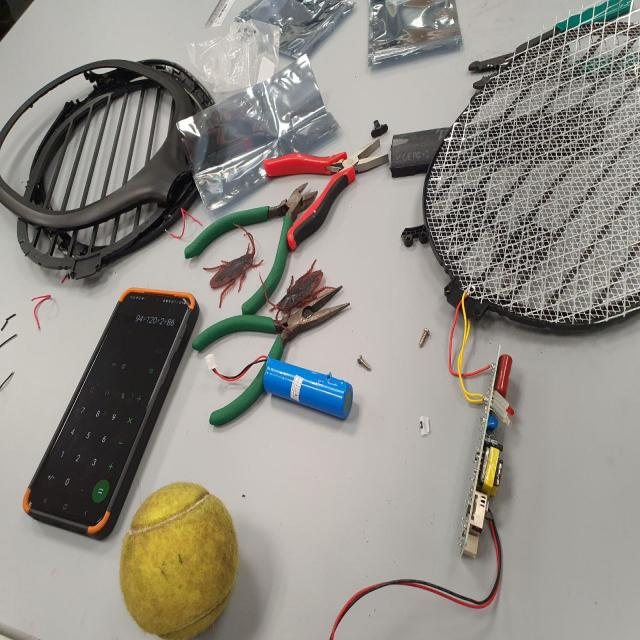Cockroach: (262, 253, 340, 342), (196, 216, 266, 304)
